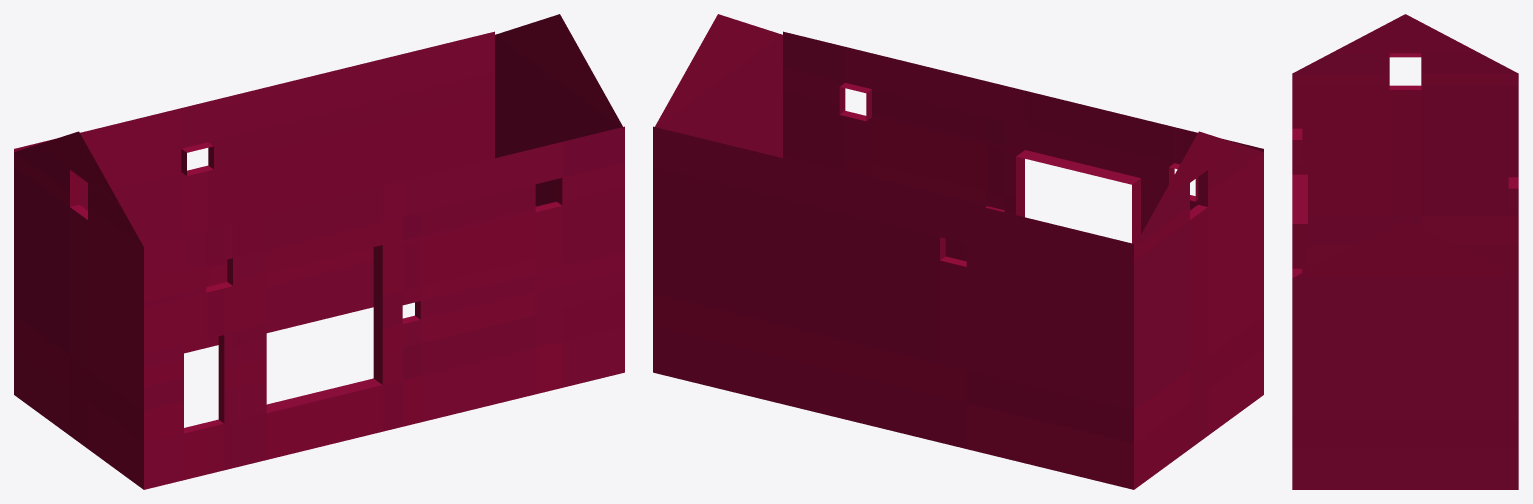
The model's file is SM_Bld_027_Masonry.glb.
3 renders of one model, left to right at view 1: azimuth 30°, elevation 25°; view 2: azimuth 150°, elevation 25°; view 3: azimuth 270°, elevation 25°, orthographic. The views are drawn at different scales.
Parts seen in each view (by area): view 1: SM_Bld_027_Masonry; view 2: SM_Bld_027_Masonry; view 3: SM_Bld_027_Masonry.
Boxes of the visible parts, box(x1,y1,x2,y2) form: SM_Bld_027_Masonry: box(14, 14, 624, 489); SM_Bld_027_Masonry: box(653, 14, 1263, 489); SM_Bld_027_Masonry: box(1292, 14, 1518, 489).
Bounding box in the file's own units: 10.78 × 6.66 × 5.04.
